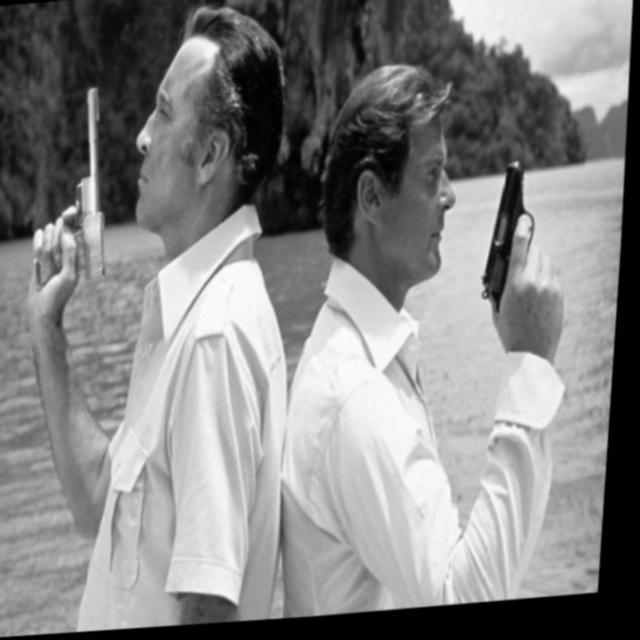weapon: (39, 82, 122, 296), (486, 150, 546, 322)
